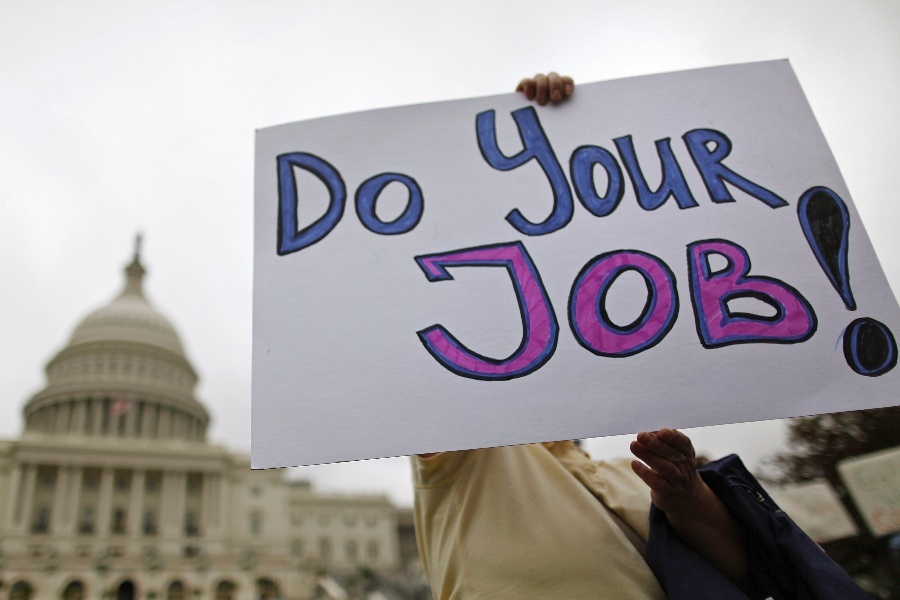text: (849, 170, 864, 447), (865, 170, 880, 447), (881, 170, 896, 447), (834, 170, 848, 447), (417, 223, 432, 392), (433, 223, 448, 392), (449, 223, 464, 392), (465, 223, 480, 392), (481, 223, 496, 392), (497, 223, 512, 392), (513, 223, 528, 392), (529, 223, 544, 392), (545, 223, 560, 392), (561, 223, 576, 392), (577, 223, 592, 392), (593, 223, 608, 392), (609, 223, 624, 392), (625, 223, 640, 392), (641, 223, 656, 392), (657, 223, 672, 392), (673, 223, 688, 392), (689, 223, 704, 392), (705, 223, 720, 392), (721, 223, 736, 392), (737, 223, 752, 392), (753, 223, 768, 392), (769, 223, 784, 392), (785, 223, 800, 392), (801, 223, 816, 392), (465, 101, 480, 241), (481, 101, 496, 241), (497, 101, 512, 241), (513, 101, 528, 241), (529, 101, 544, 241), (545, 101, 560, 241), (561, 101, 576, 241), (577, 101, 592, 241), (593, 101, 608, 241), (609, 101, 624, 241), (625, 101, 640, 241), (641, 101, 656, 241), (657, 101, 672, 241), (673, 101, 688, 241), (689, 101, 704, 241), (705, 101, 720, 241), (721, 101, 736, 241), (737, 101, 752, 241), (753, 101, 768, 241), (769, 101, 784, 241), (817, 223, 827, 392), (289, 148, 304, 260), (305, 148, 320, 260), (321, 148, 336, 260), (337, 148, 352, 260), (353, 148, 368, 260), (369, 148, 384, 260), (385, 148, 400, 260), (401, 148, 416, 260), (417, 148, 432, 260), (274, 148, 288, 260), (785, 101, 796, 241), (433, 148, 443, 260), (410, 223, 416, 392), (897, 170, 900, 447), (463, 101, 464, 241)
